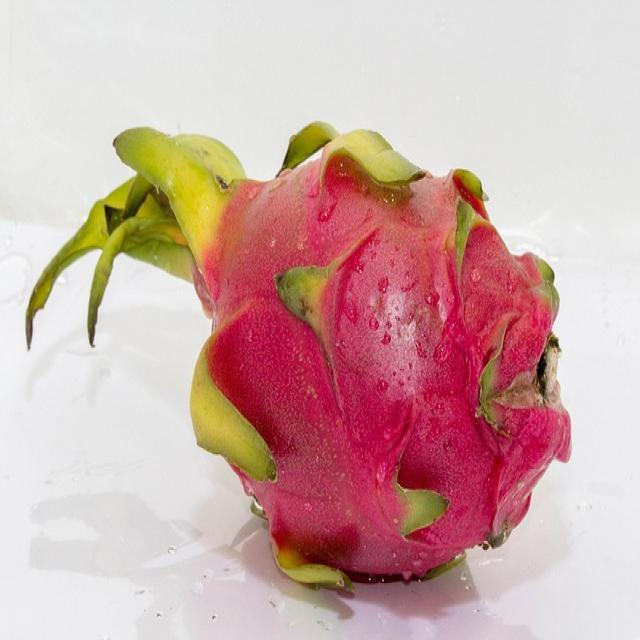dragon-fruit: (207, 155, 574, 578)
